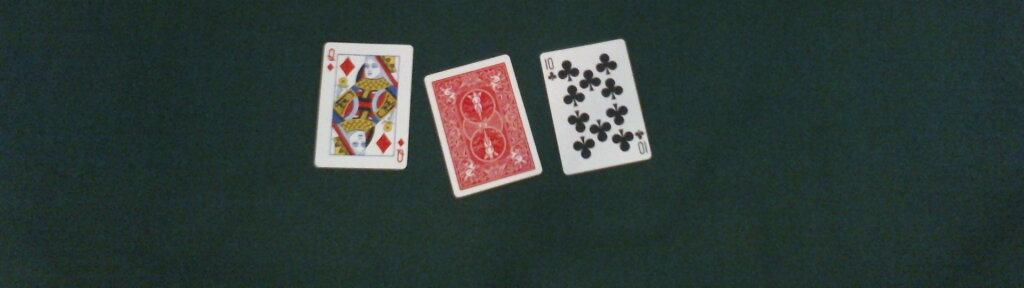back: (422, 55, 544, 197)
queen: (313, 41, 413, 171)
ten: (538, 39, 652, 175)
